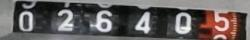digits: (90, 9, 114, 32), (174, 11, 192, 34), (56, 8, 74, 31), (134, 11, 150, 33), (213, 11, 229, 31), (18, 11, 33, 31)
